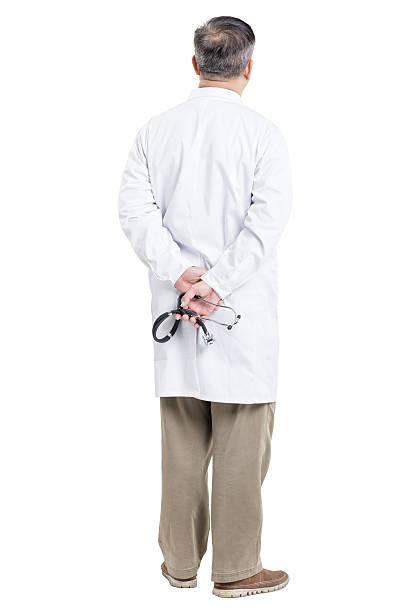Human: (112, 12, 330, 600)
